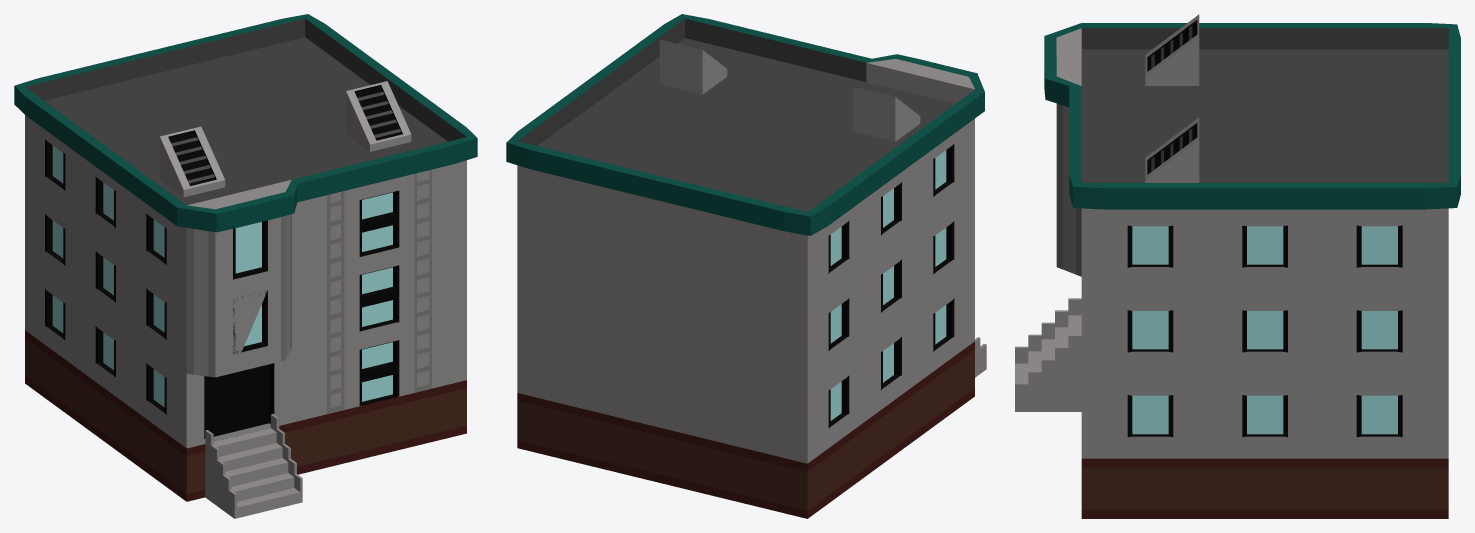
Rendered from pokemonflat.fbx.
3 renders of one model, left to right at view 1: azimuth 30°, elevation 25°; view 2: azimuth 150°, elevation 25°; view 3: azimuth 270°, elevation 25°, orthographic. The views are drawn at different scales.
Visible parts, largest first — view 1: Cube; view 2: Cube; view 3: Cube.
Part boxes in pixels (x1=…): Cube: x1=14, y1=14, x2=477, y2=518; Cube: x1=506, y1=14, x2=986, y2=518; Cube: x1=1015, y1=14, x2=1460, y2=518.
Size of the model in its own units: 1174 by 1204 by 1336.
